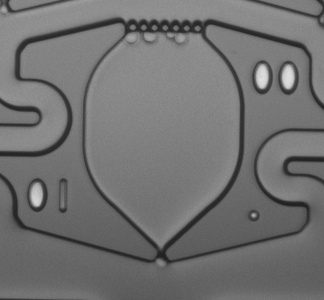AptNum: (246, 55, 306, 102)
Marker: (242, 202, 267, 228)
StNum: (22, 174, 74, 222)
